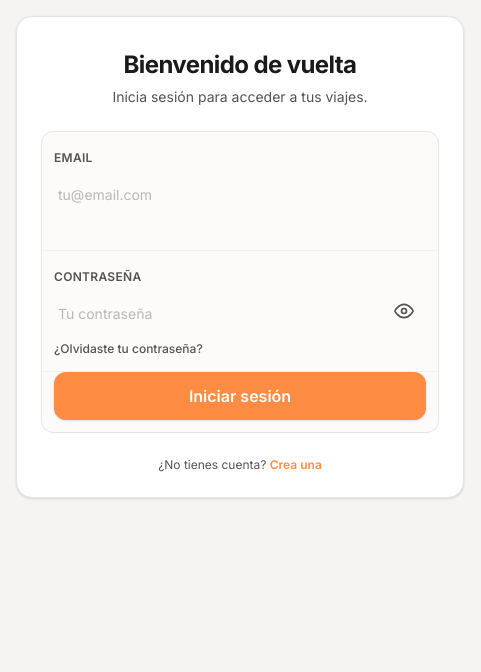
Test: /login › RATE_LIMITED surfaces a banner
In the field with placeholder "tu@email.com": (240, 194) [54,172,426,216], type "x@example.test"
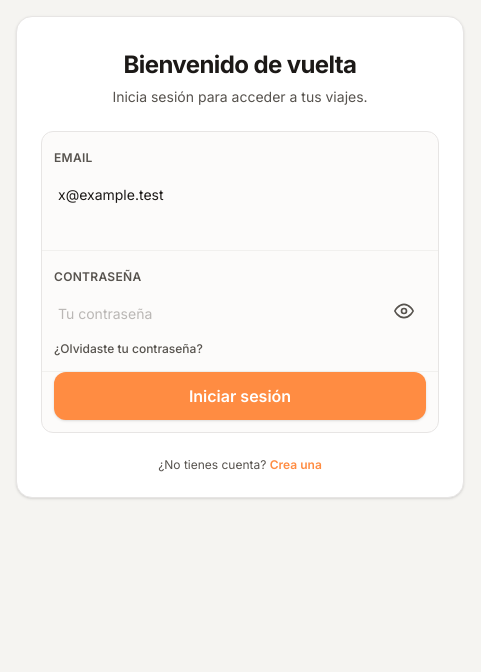
In the field with placeholder "Tu contraseña": (218, 313) [54,291,382,335], type "GoodPass1!"
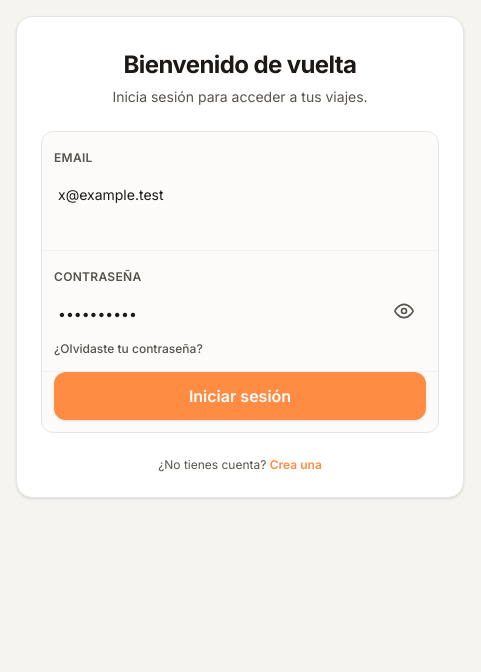
Click the button "Iniciar sesión": (240, 396) [54,372,426,420]
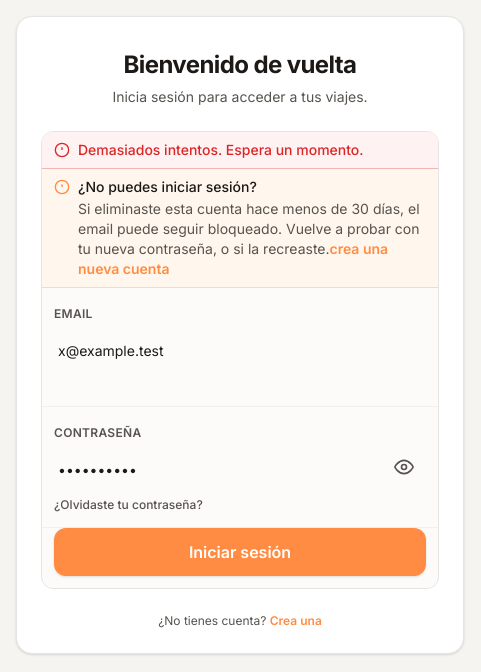
Now the message "Demasiados intentos. Espera un momento." is shown, box [42,132,438,169]
